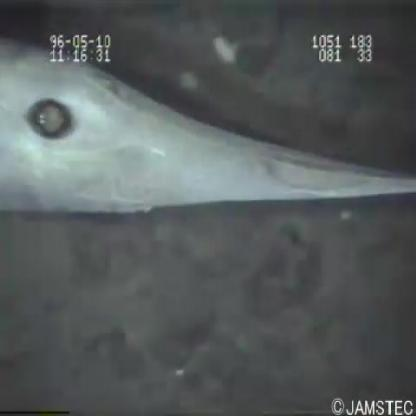Bio: (1, 40, 414, 218)
